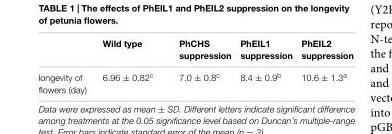table: (37, 37, 352, 94)
table column: (93, 37, 165, 94), (165, 37, 235, 94), (235, 37, 296, 94), (37, 37, 93, 94), (296, 37, 352, 94)
table column header: (37, 37, 352, 65)
table row: (37, 65, 352, 94), (37, 37, 352, 65)
